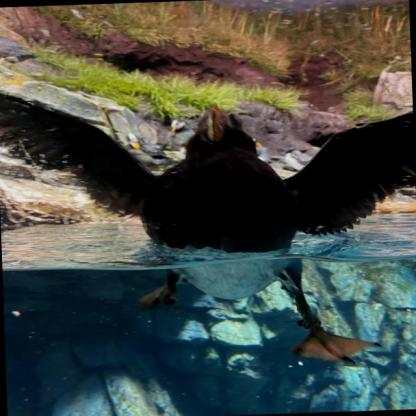puffin: (0, 77, 415, 374), (124, 127, 167, 167), (163, 114, 198, 151)
